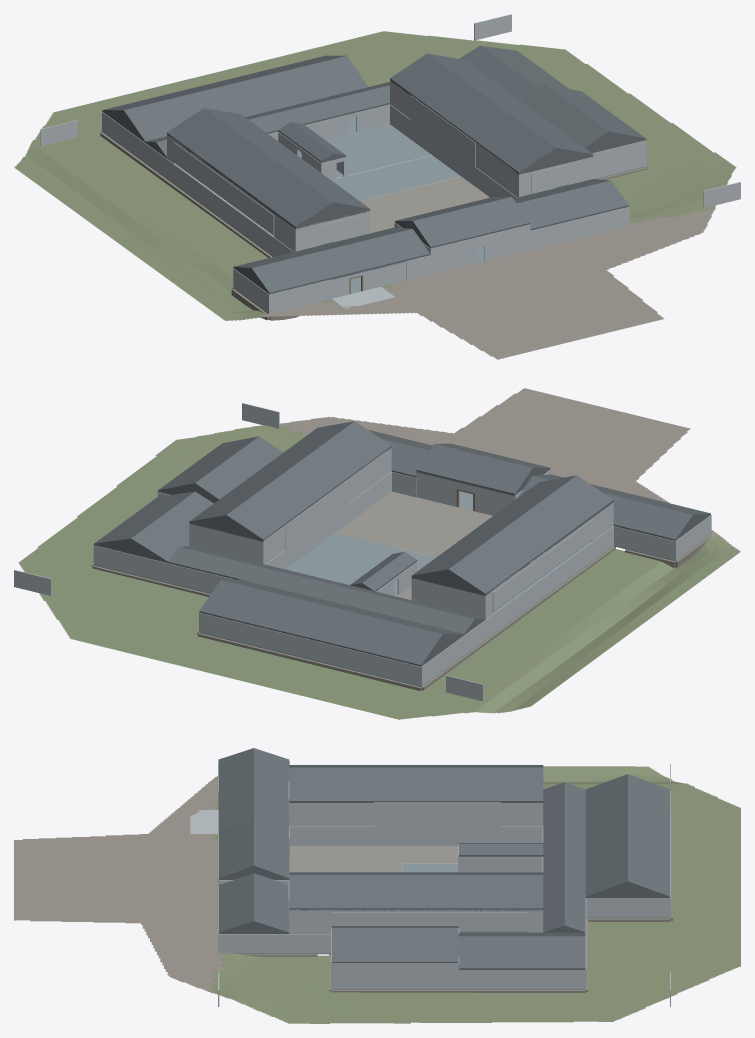
File: saved-earthworks.glb
3 renders of one model, top to bottom at view 1: azimuth 30°, elevation 25°; view 2: azimuth 150°, elevation 25°; view 3: azimuth 270°, elevation 25°, orthographic.
Visible parts, largest first — view 1: Saved editor geographic earthworks PRISON, food-and-medical roof south, east-cellhouse roof west, west-cellhouse roof west, intake-and-visitors roof south, PRISON secure exercise yard pavement region0, sally-port roof south, guard-and-staff roof south, Ceiling cap plant, Ceiling cap laundry, west-cellhouse roof east, east-cellhouse roof east (+32 smaller); view 2: Saved editor geographic earthworks PRISON, food-and-medical roof north, west-cellhouse roof west, east-cellhouse roof west, PRISON secure exercise yard pavement region0, north-cross roof north, sally-port roof north, east-cellhouse roof east, west-cellhouse roof east, intake-and-visitors roof north, isolation roof west, chapel roof west (+32 smaller); view 3: Saved editor geographic earthworks PRISON, west-cellhouse roof east, east-cellhouse roof east, food-and-medical roof south, food-and-medical roof north, chapel roof east, isolation roof east, PRISON secure exercise yard pavement region0, Wall chapel E, north-cross roof south, north-cross roof north, Wall a-rear-bypass E (+30 smaller).
Boxes of the visible parts, x1=… form: Saved editor geographic earthworks PRISON: x1=14, y1=31, x2=736, y2=359; food-and-medical roof south: x1=124, y1=56, x2=368, y2=141; east-cellhouse roof west: x1=390, y1=53, x2=555, y2=173; west-cellhouse roof west: x1=167, y1=108, x2=332, y2=228; intake-and-visitors roof south: x1=251, y1=229, x2=430, y2=293; PRISON secure exercise yard pavement region0: x1=360, y1=176, x2=489, y2=233; sally-port roof south: x1=413, y1=197, x2=529, y2=248; guard-and-staff roof south: x1=517, y1=180, x2=628, y2=230; Ceiling cap plant: x1=325, y1=124, x2=431, y2=175; Ceiling cap laundry: x1=331, y1=155, x2=460, y2=200; west-cellhouse roof east: x1=204, y1=108, x2=369, y2=209; east-cellhouse roof east: x1=428, y1=53, x2=593, y2=155; Saved editor geographic earthworks PRISON: x1=18, y1=388, x2=740, y2=719; food-and-medical roof north: x1=199, y1=580, x2=442, y2=666; west-cellhouse roof west: x1=448, y1=475, x2=613, y2=594; east-cellhouse roof west: x1=226, y1=421, x2=391, y2=540; PRISON secure exercise yard pavement region0: x1=335, y1=491, x2=492, y2=599; north-cross roof north: x1=168, y1=547, x2=474, y2=634; sally-port roof north: x1=416, y1=444, x2=532, y2=495; east-cellhouse roof east: x1=189, y1=421, x2=353, y2=522; west-cellhouse roof east: x1=411, y1=475, x2=576, y2=576; intake-and-visitors roof north: x1=517, y1=476, x2=693, y2=540; isolation roof west: x1=131, y1=491, x2=213, y2=562; chapel roof west: x1=195, y1=436, x2=283, y2=499; Saved editor geographic earthworks PRISON: x1=14, y1=766, x2=740, y2=1023; west-cellhouse roof east: x1=289, y1=767, x2=543, y2=802; east-cellhouse roof east: x1=289, y1=875, x2=543, y2=909; food-and-medical roof south: x1=585, y1=774, x2=627, y2=897; food-and-medical roof north: x1=628, y1=774, x2=670, y2=897; chapel roof east: x1=331, y1=928, x2=458, y2=963; isolation roof east: x1=458, y1=936, x2=585, y2=969; PRISON secure exercise yard pavement region0: x1=289, y1=846, x2=457, y2=872; Wall chapel E: x1=331, y1=963, x2=458, y2=989; north-cross roof south: x1=543, y1=782, x2=564, y2=932; north-cross roof north: x1=564, y1=782, x2=585, y2=932; Wall a-rear-bypass E: x1=430, y1=802, x2=500, y2=845.
Size of the model in its own units: 87 by 12.6 by 103.
26 materials, 12 textured.
